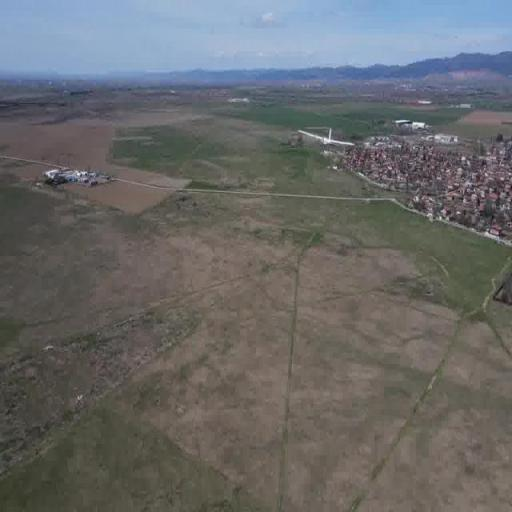uav: (298, 126, 354, 160)
